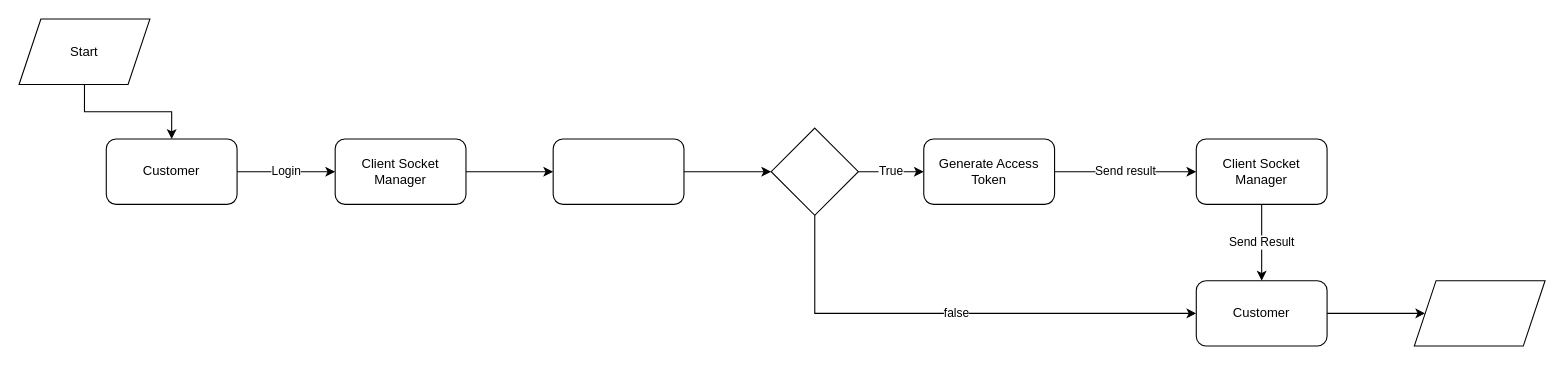
Some shapes in this 1564 by 365 pixel diagram are drawn without their labels. Each missing label, with the centre of its shape:
Customer Service: pixel 618 171
End: pixel 1479 313
Login Success ?: pixel 814 171
